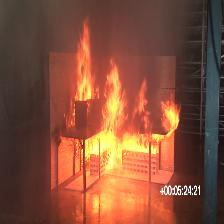fire: (91, 135, 156, 163), (76, 25, 93, 118), (105, 63, 126, 125), (159, 102, 179, 135)
